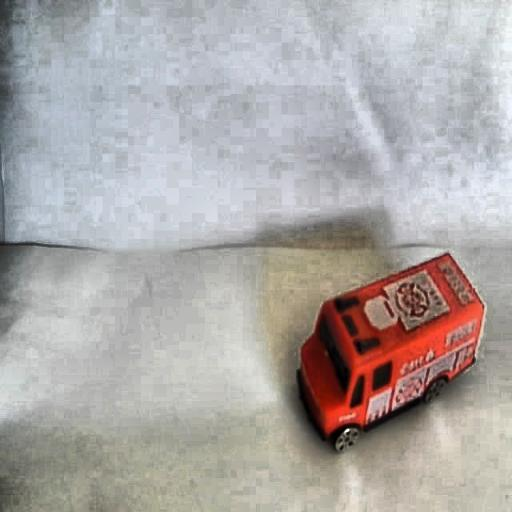fire_truck: (278, 246, 490, 461)
